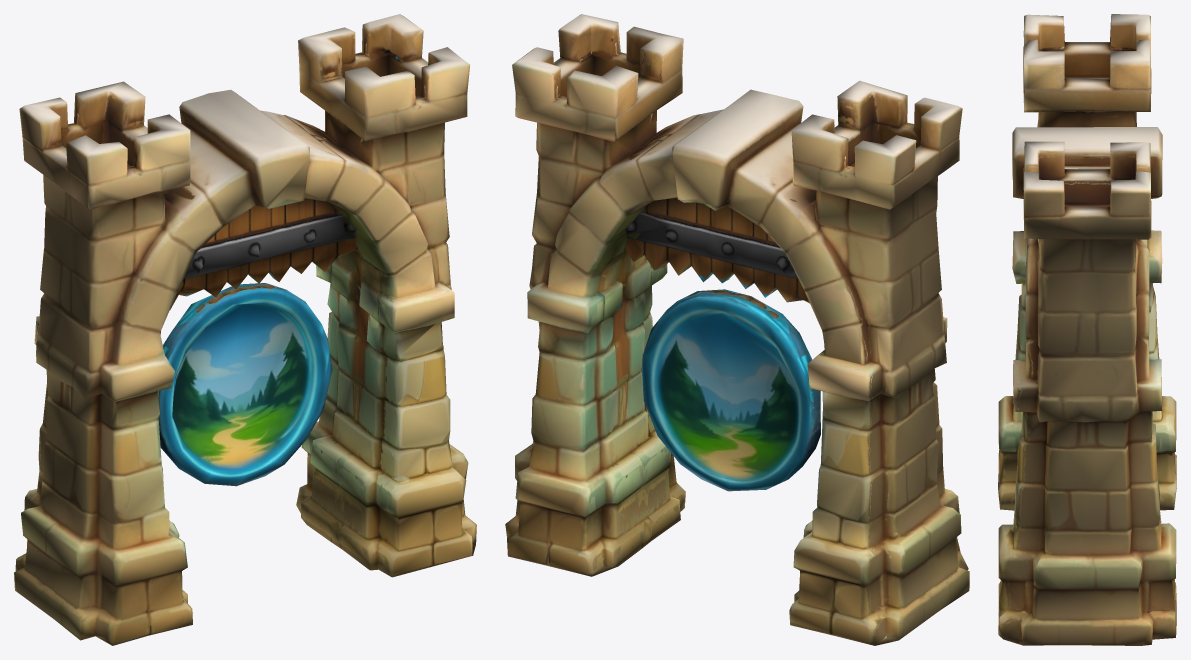
Rendered from Explorar.glb.
3 views of the same model, side by side, from view 1: azimuth 30°, elevation 25°; view 2: azimuth 150°, elevation 25°; view 3: azimuth 270°, elevation 25° (orthographic). The views are drawn at different scales.
Visible parts, largest first — view 1: Mesh1.0; view 2: Mesh1.0; view 3: Mesh1.0.
Boxes of the visible parts, x1=… form: Mesh1.0: x1=14, y1=14, x2=476, y2=645; Mesh1.0: x1=505, y1=14, x2=969, y2=645; Mesh1.0: x1=998, y1=14, x2=1176, y2=645.
Size of the model in its own units: 1.64 by 1.91 by 0.6809.
1 material, 1 textured.
